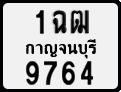letters: (69, 9, 91, 34), (51, 9, 68, 34), (43, 60, 58, 86), (61, 60, 76, 86), (25, 60, 40, 85), (80, 60, 94, 86), (34, 9, 46, 35)
province: (25, 38, 98, 59)
